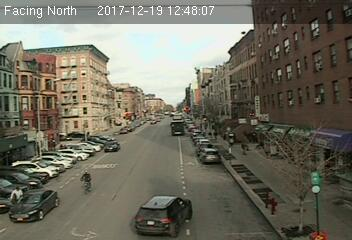bicycle: (78, 168, 95, 194)
car: (136, 193, 194, 236), (7, 187, 59, 223), (200, 147, 220, 164)
ups: (170, 121, 184, 135)
